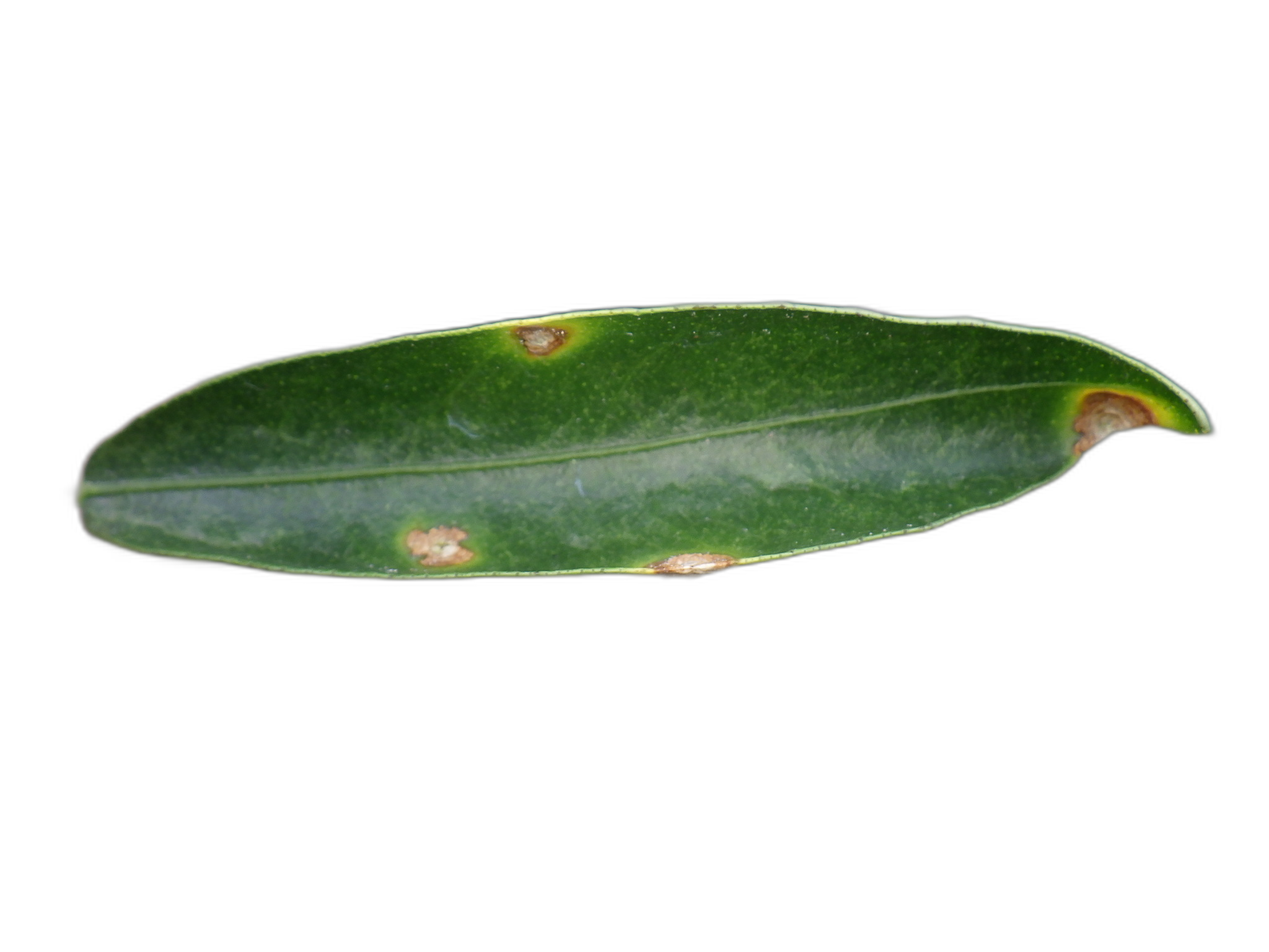Canker: (1074, 391, 1156, 451), (405, 526, 473, 567), (654, 553, 735, 575), (515, 326, 568, 356)
